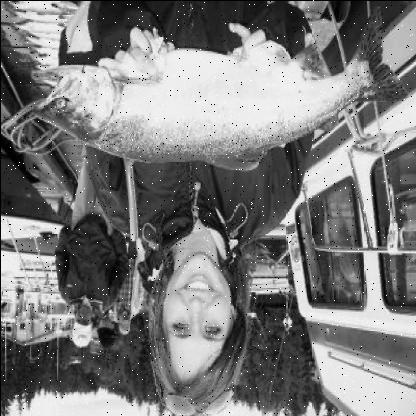fish: (29, 20, 401, 170)
